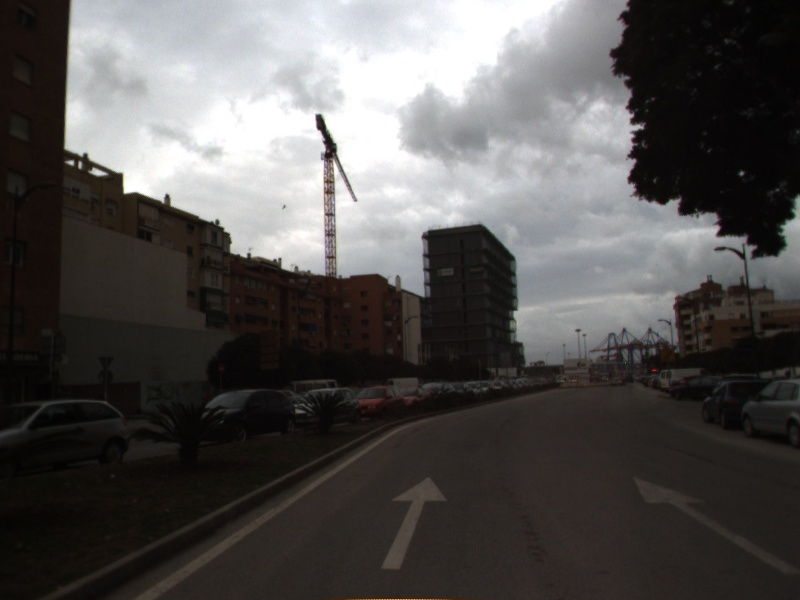STRAIGHT: (631, 473, 800, 576), (378, 472, 450, 572)
